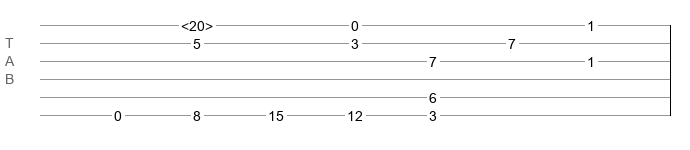0: (114, 108, 122, 118), (351, 18, 359, 28)
1: (587, 18, 595, 28), (587, 54, 595, 64)
12: (347, 108, 363, 118)
15: (268, 108, 284, 118)
3: (351, 36, 359, 46), (429, 108, 437, 118)
5: (193, 36, 201, 46)
6: (429, 90, 437, 100)
7: (429, 54, 437, 64), (508, 36, 516, 46)
8: (193, 108, 201, 118)
harmonic: (181, 18, 213, 28)
